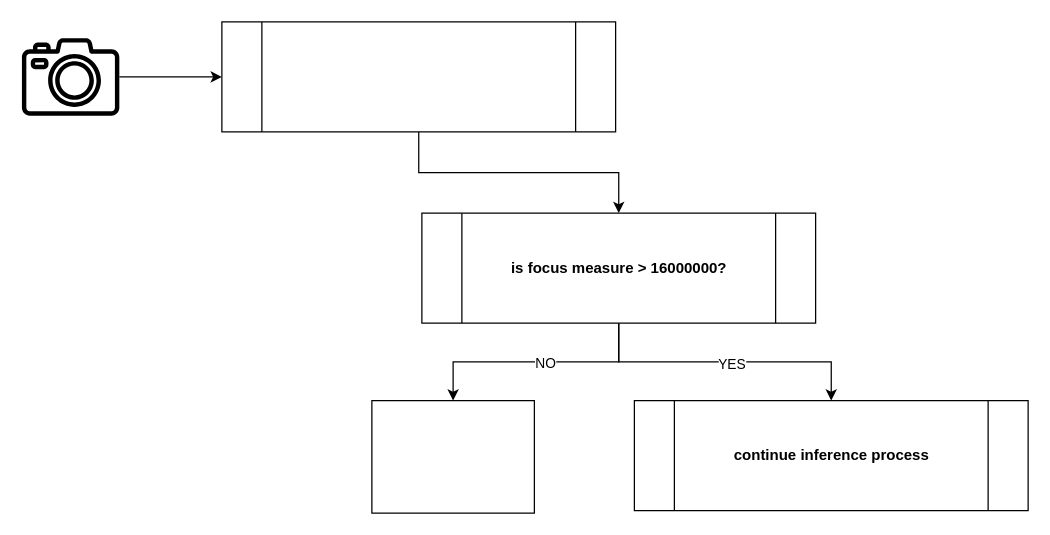
The diagram is 1050 pixels wide and 535 high, and some of its shapes have lost their labels. Each missing label, with the centre of its shape:
"Do Nothing" belongs at [452,456].
"get_brenners_focus_horizontal_gradient()" belongs at [418,76].
